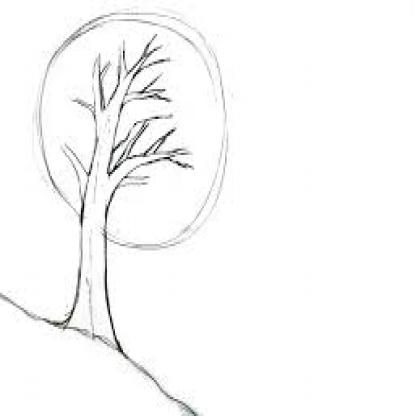branch_cut: (60, 38, 196, 201)
crown_mushroom: (38, 7, 226, 250)
root_none: (50, 313, 128, 372)
trunk_bark: (72, 225, 115, 301)
